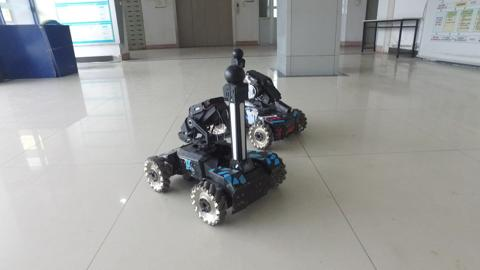chariot: (145, 62, 290, 234), (226, 45, 310, 154)
